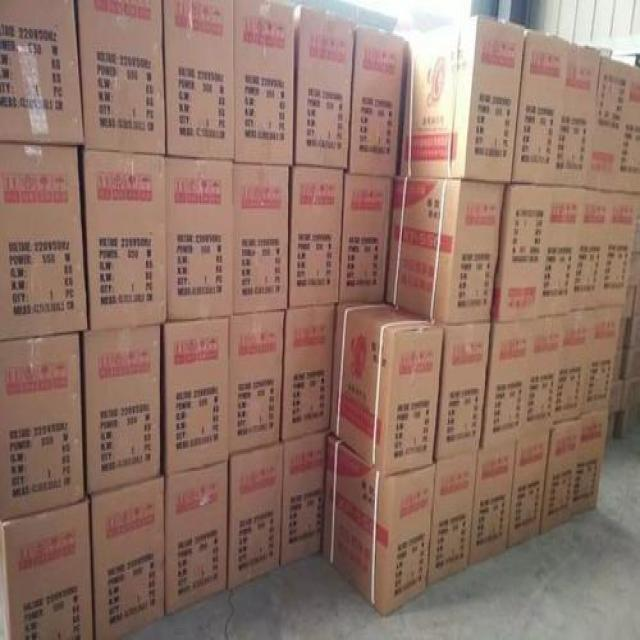box: (407, 16, 525, 184), (326, 297, 436, 473), (331, 432, 428, 623), (0, 136, 88, 343), (386, 171, 496, 331), (0, 327, 88, 525), (77, 152, 169, 332), (81, 322, 165, 496), (86, 467, 168, 640), (0, 492, 94, 640), (0, 0, 88, 158), (80, 0, 169, 151), (163, 151, 235, 335), (160, 0, 242, 155), (228, 0, 300, 172), (227, 156, 298, 324), (160, 314, 232, 478), (162, 450, 231, 618), (292, 0, 357, 177), (345, 26, 411, 179), (283, 153, 345, 314), (491, 178, 553, 336), (581, 41, 640, 198), (335, 172, 401, 312), (509, 21, 564, 188), (227, 301, 285, 454), (281, 299, 342, 442), (230, 441, 280, 593), (279, 434, 332, 577), (434, 312, 484, 458), (532, 182, 584, 320), (428, 446, 475, 598), (554, 38, 602, 186), (485, 305, 530, 450), (472, 437, 517, 573), (581, 298, 628, 421), (506, 427, 550, 550), (592, 192, 640, 304), (542, 425, 588, 530), (523, 298, 558, 434), (551, 309, 590, 427), (571, 184, 602, 309), (570, 414, 604, 524)
